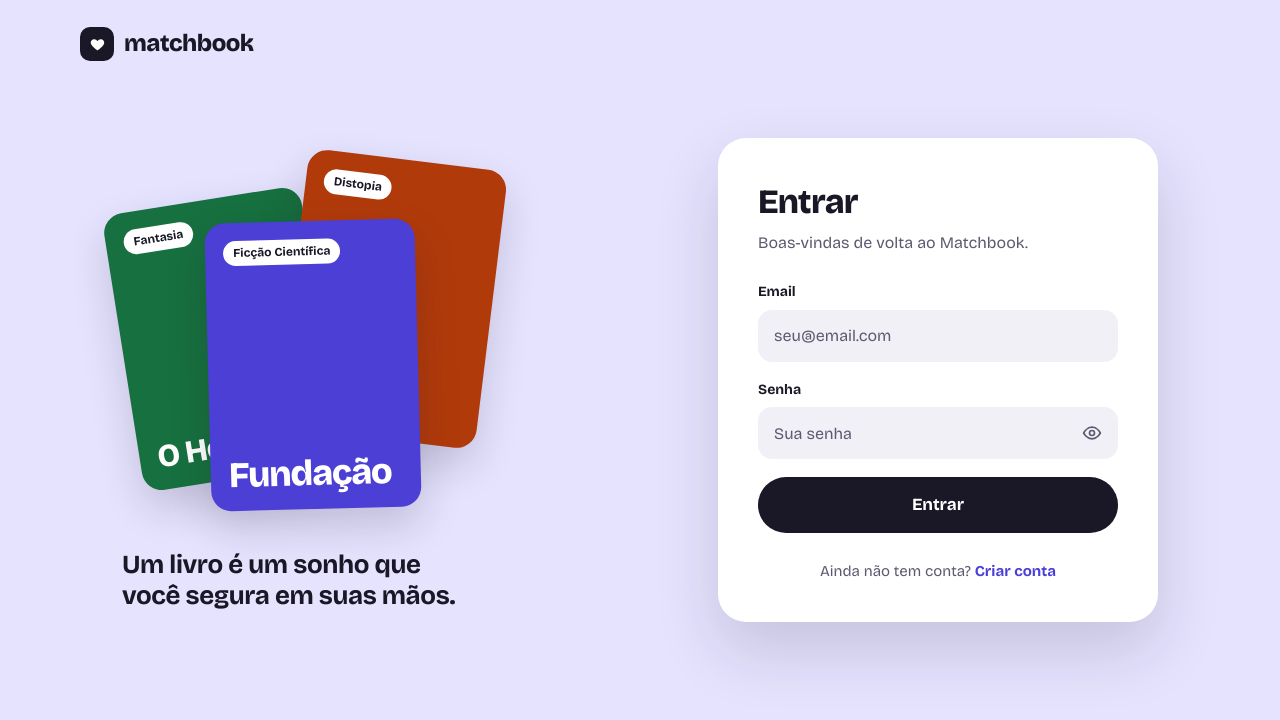
Test: login and sign-up › the right password opens Home and stores the session without the password
The width and height of the screenshot is (1280, 720).
Step 1. Type "ana@email.com" into the field labelled "Email" → (938, 336), box [758, 310, 1118, 362]
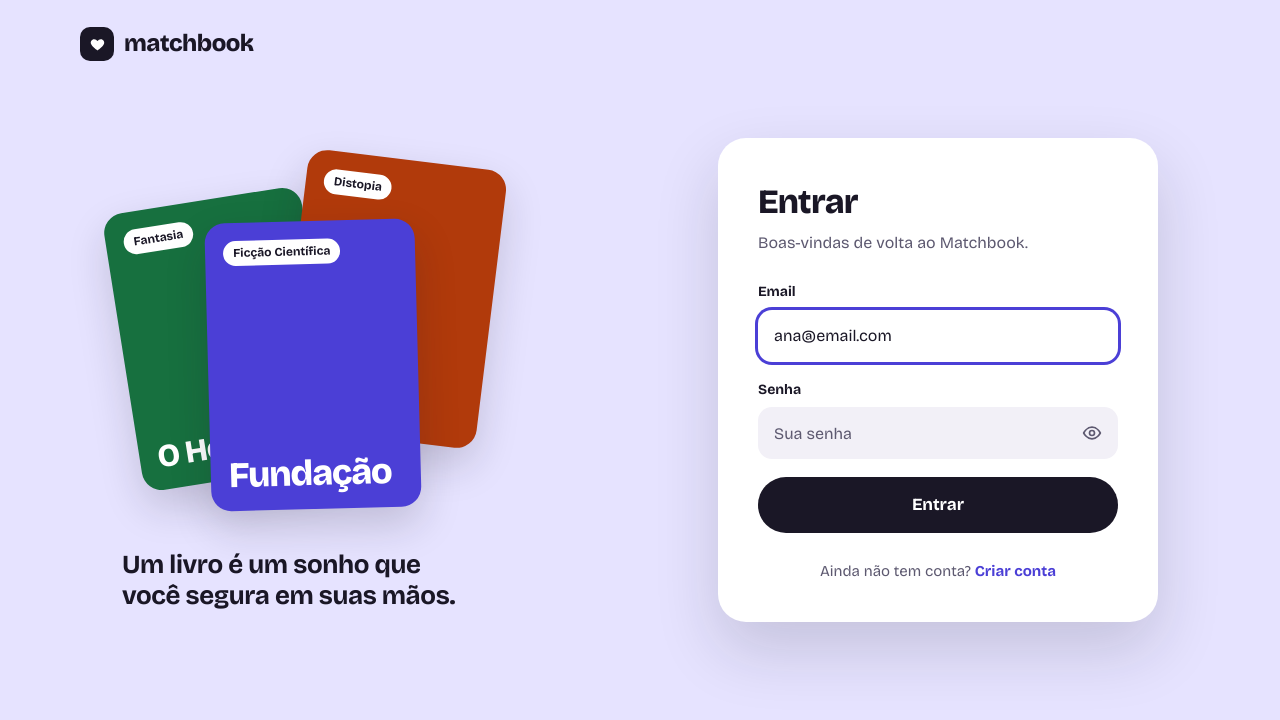
Step 2. Type "123456" into the password field labelled "Senha" → (938, 434), box [758, 408, 1118, 460]
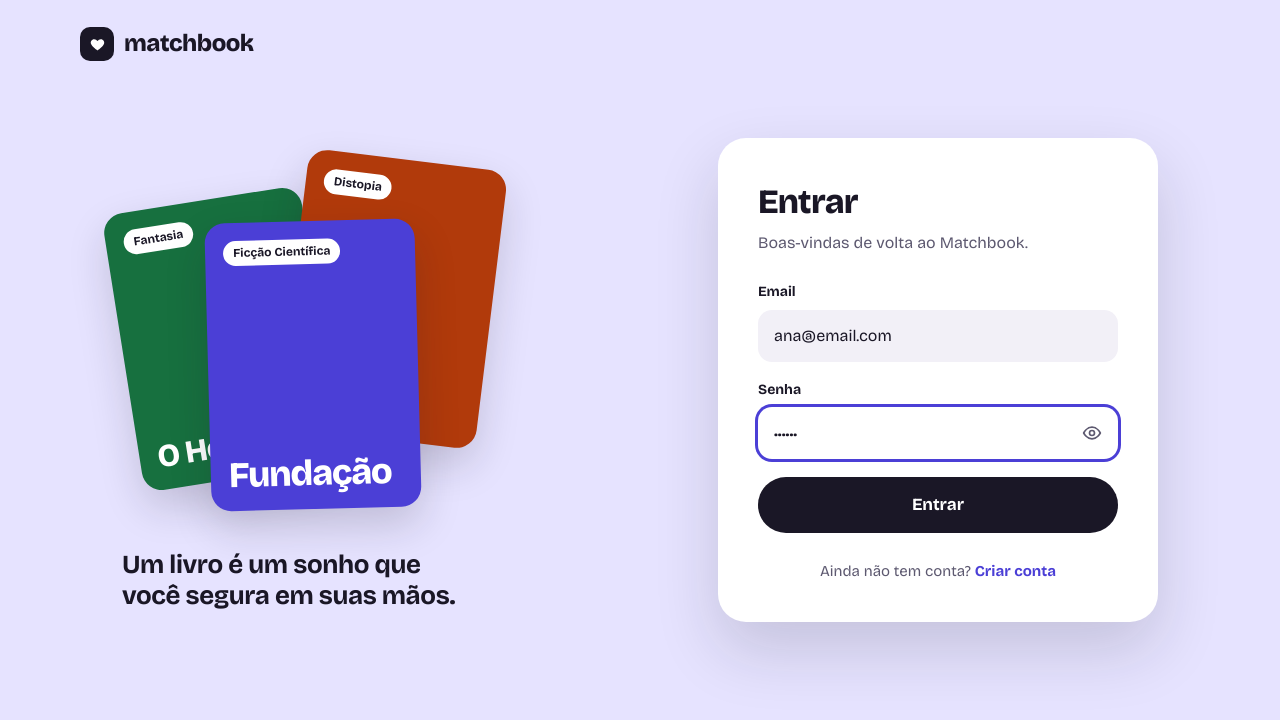
Step 3. Click the button "Entrar" → (938, 506), box [758, 478, 1118, 534]
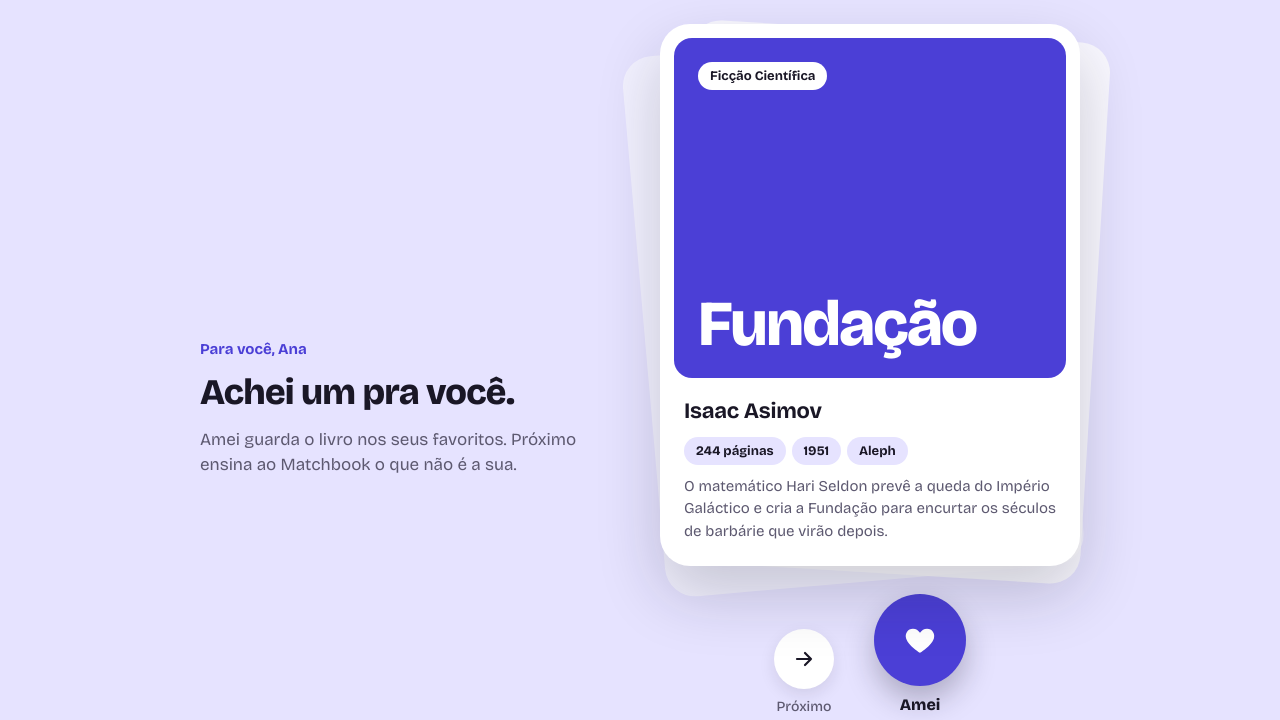
Check: the heading "Achei um pra você." is shown, box [200, 371, 514, 414]
